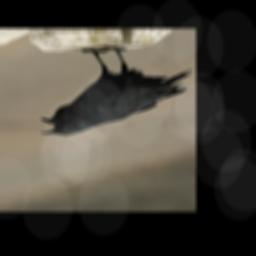Crow: (40, 45, 193, 136)
